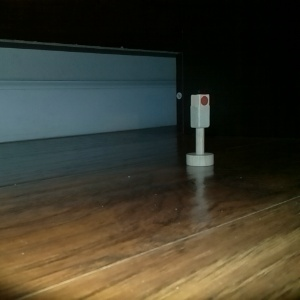traffic light red: (182, 83, 216, 169)
